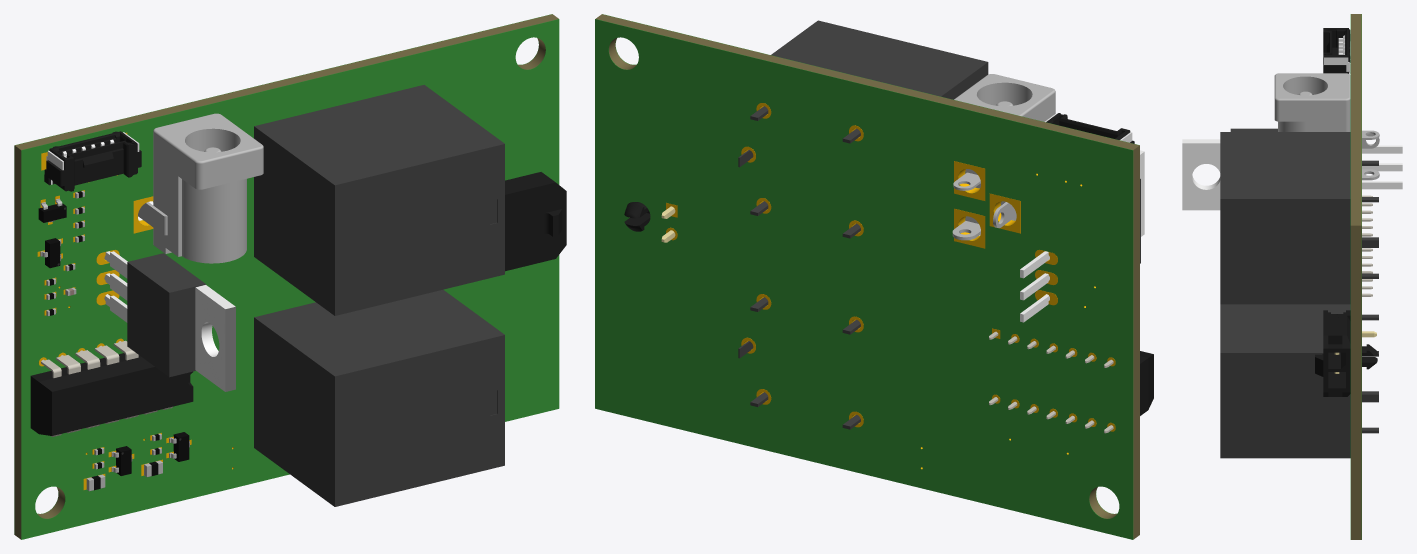
File: thermoregulation_driver_brd.fbx
The picture shows the model from 3 angles, left to right: view 1: azimuth 30°, elevation 25°; view 2: azimuth 150°, elevation 25°; view 3: azimuth 270°, elevation 25°; orthographic projection. The views are drawn at different scales.
Visible parts, largest first — view 1: Body1 (×8), Board, Body15, Body2, Body3; view 2: Body1 (×6), Board, Body2, Body15; view 3: Body1 (×7), Board, Body15.
Part boxes in pixels (box(x1,y1,x2,y2)): Body1 (×8): box(14, 14, 566, 539); Board: box(14, 14, 558, 539); Body15: box(44, 131, 141, 191); Body2: box(38, 196, 153, 366); Body3: box(37, 132, 191, 489); Body1 (×6): box(595, 19, 1153, 539); Board: box(596, 14, 1139, 539); Body2: box(666, 103, 1115, 431); Body15: box(1046, 113, 1134, 143); Body1 (×7): box(1182, 14, 1402, 539); Board: box(1351, 14, 1361, 539); Body15: box(1323, 28, 1350, 73).
Size of the model in its own units: 7.11 by 4.92 by 3.12.
